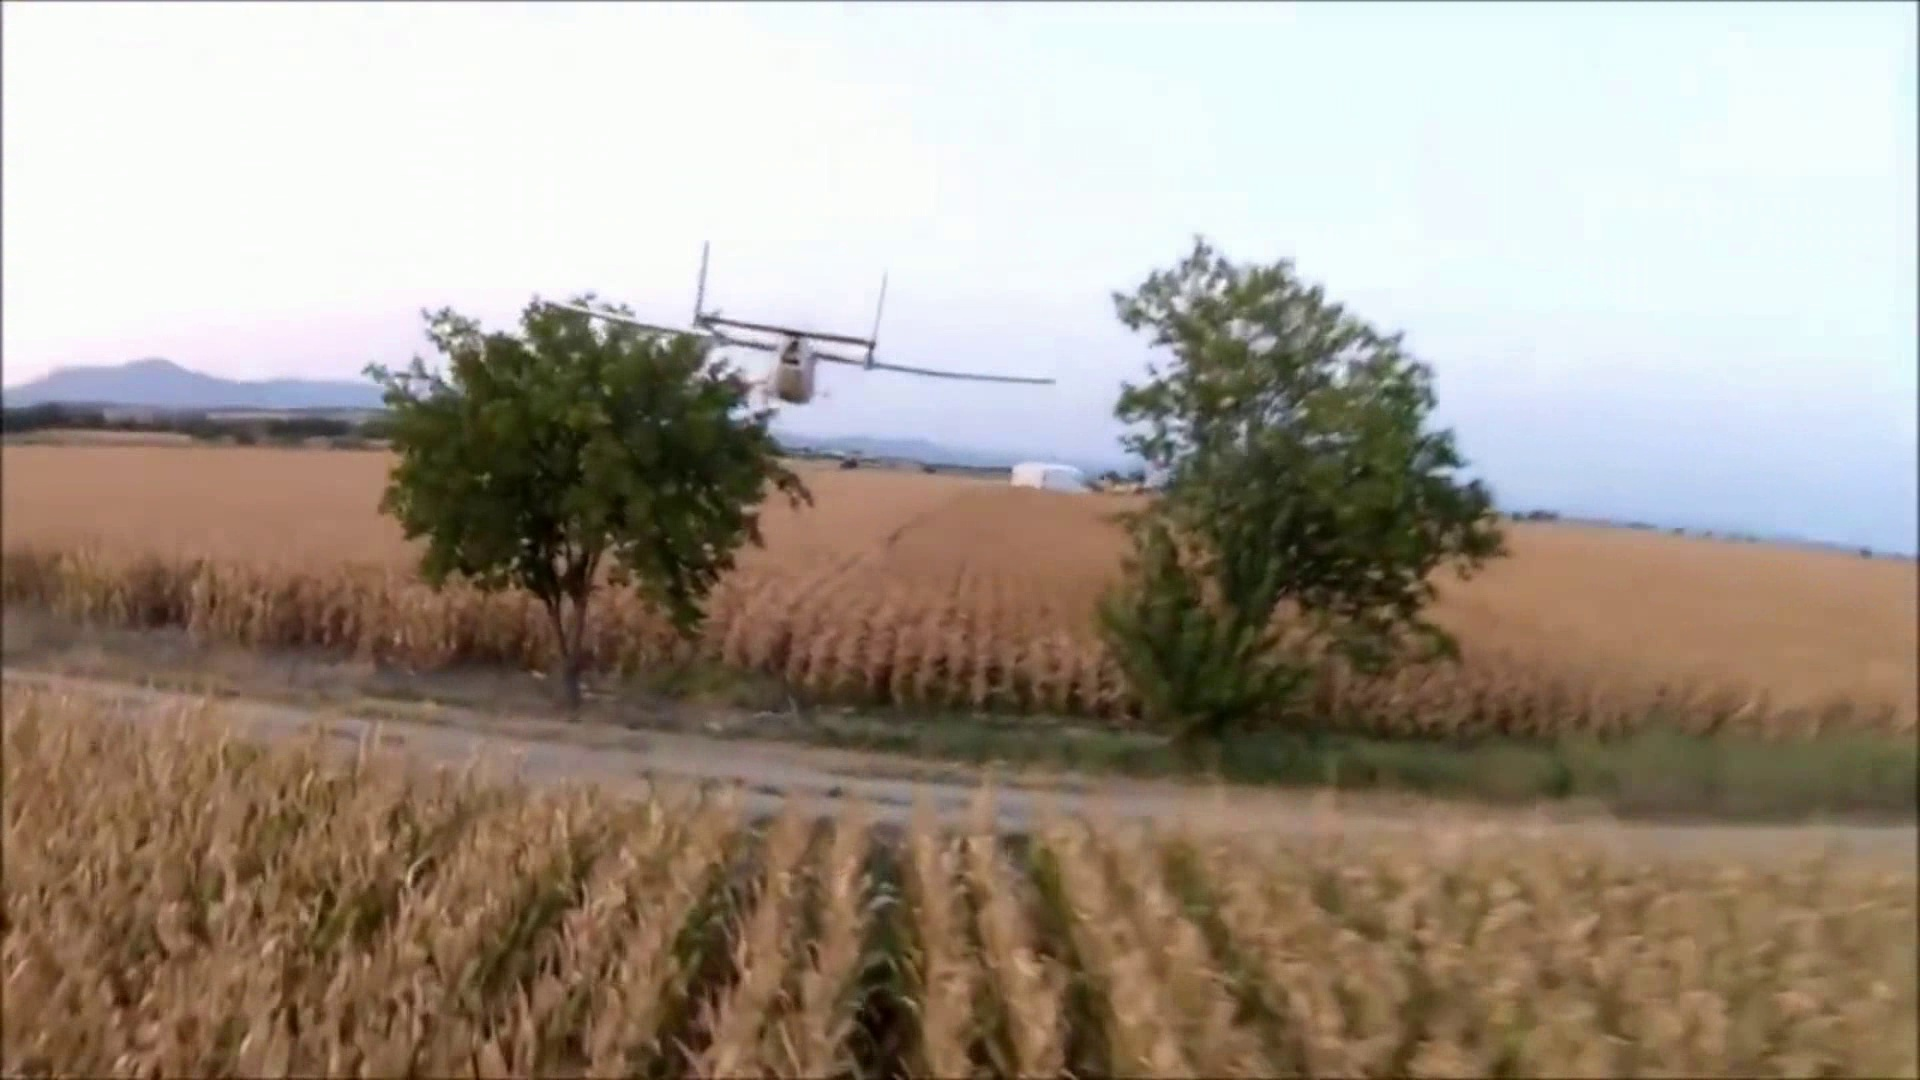airplane: (581, 239, 1059, 412)
